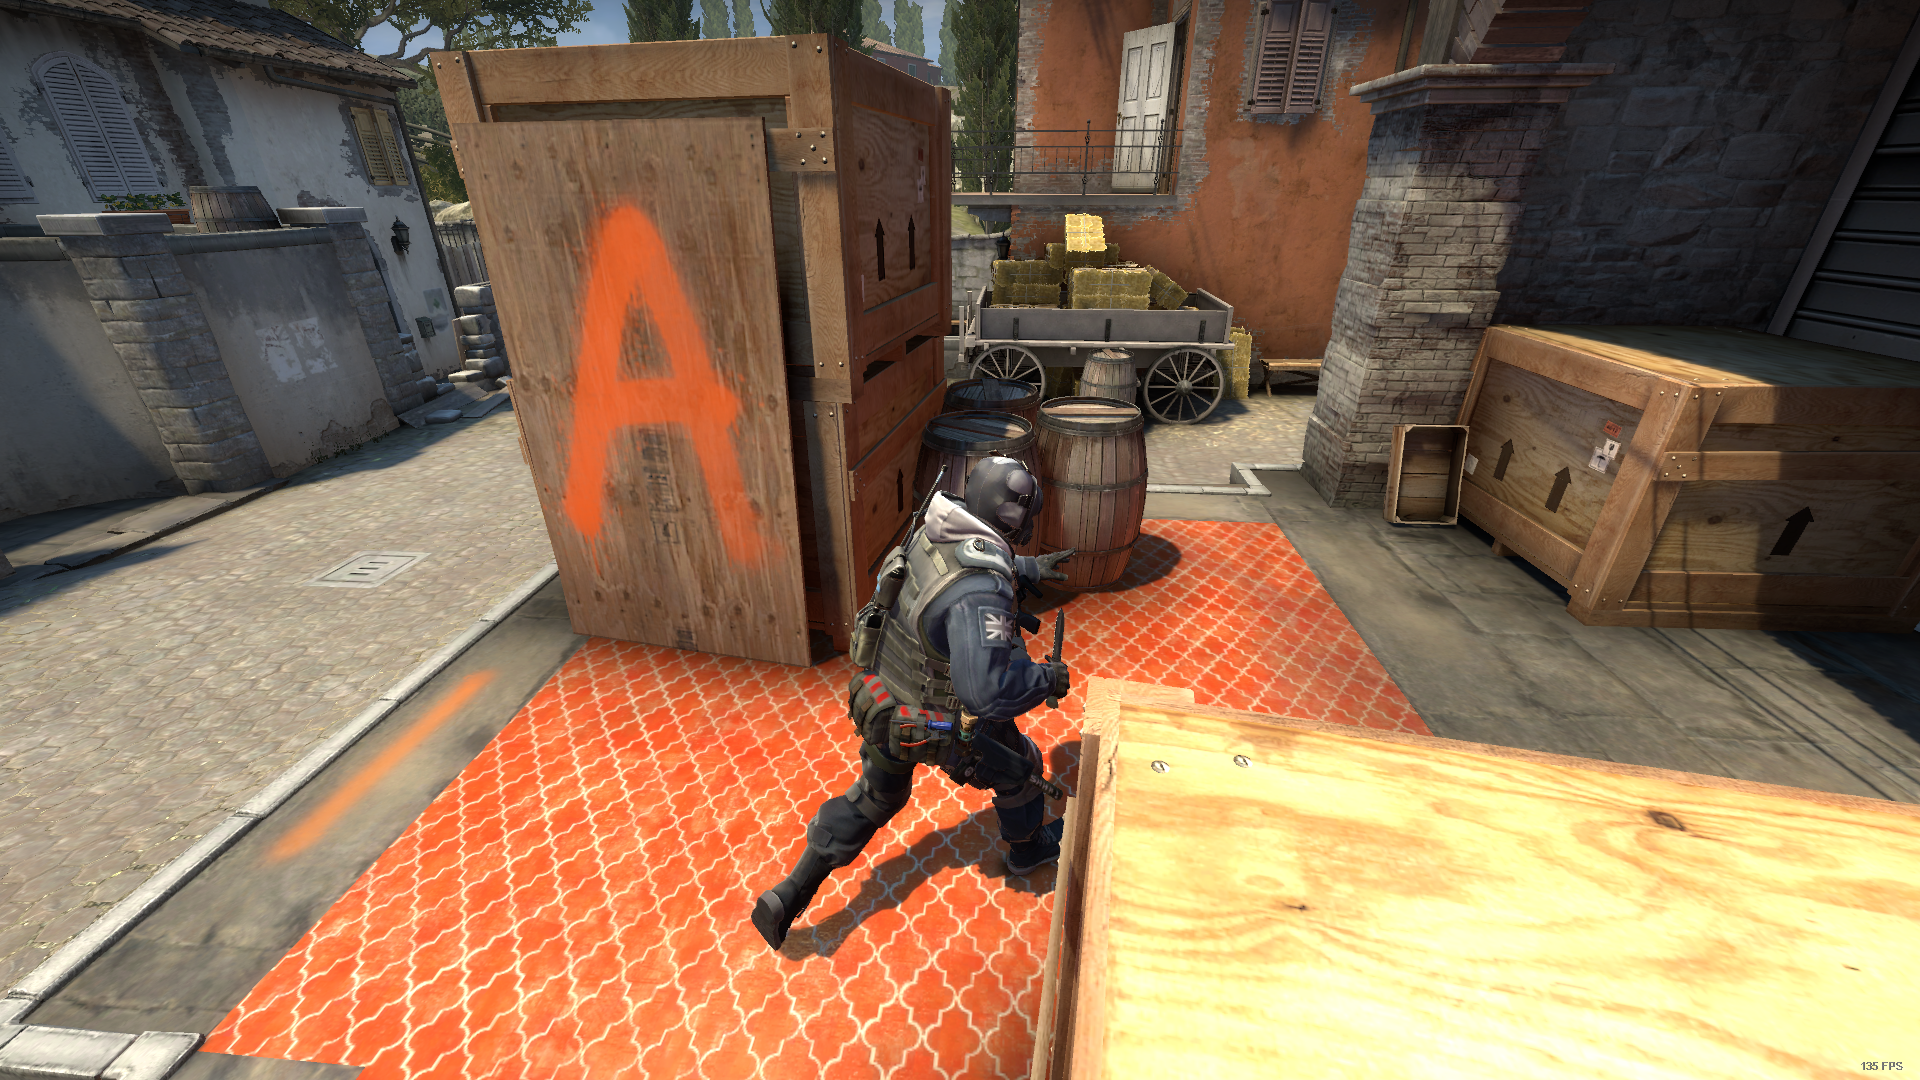ct: (756, 455, 1073, 947)
